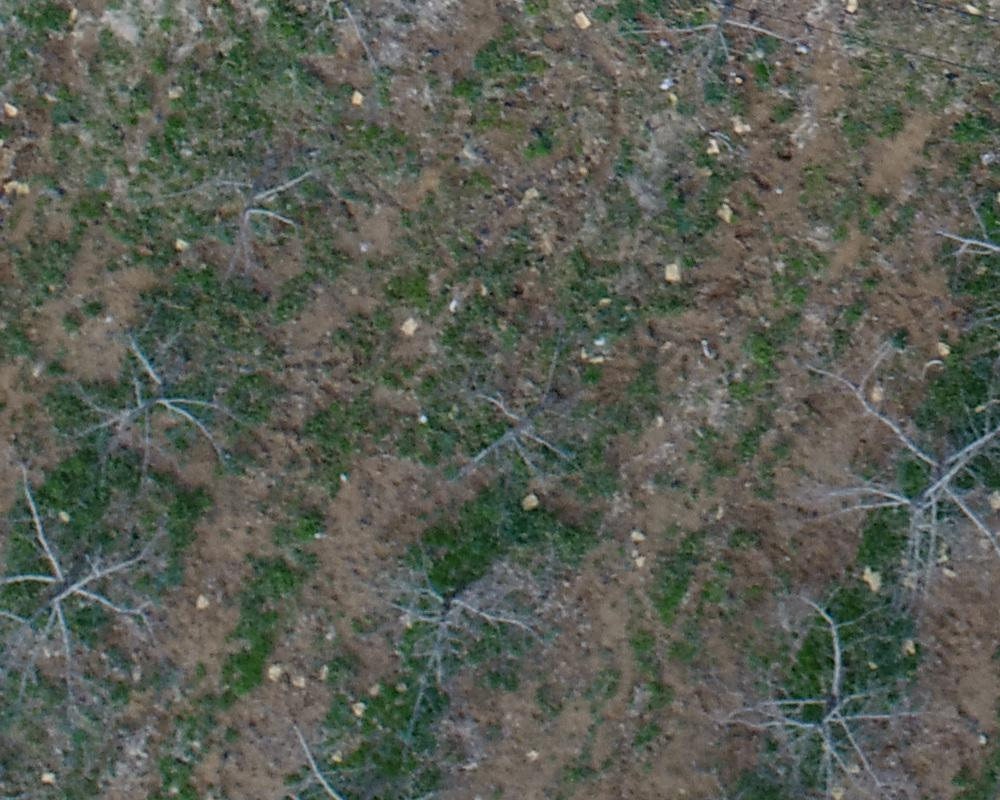apple: (696, 595, 959, 790), (804, 374, 990, 615), (10, 485, 196, 703), (34, 331, 277, 488), (343, 540, 562, 703), (170, 136, 361, 304), (434, 335, 621, 501), (602, 10, 818, 124)
